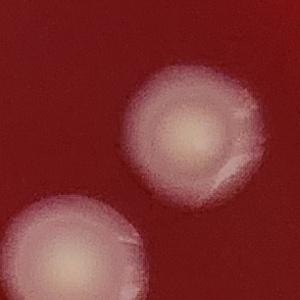colony: (118, 58, 271, 217), (0, 189, 153, 300)
